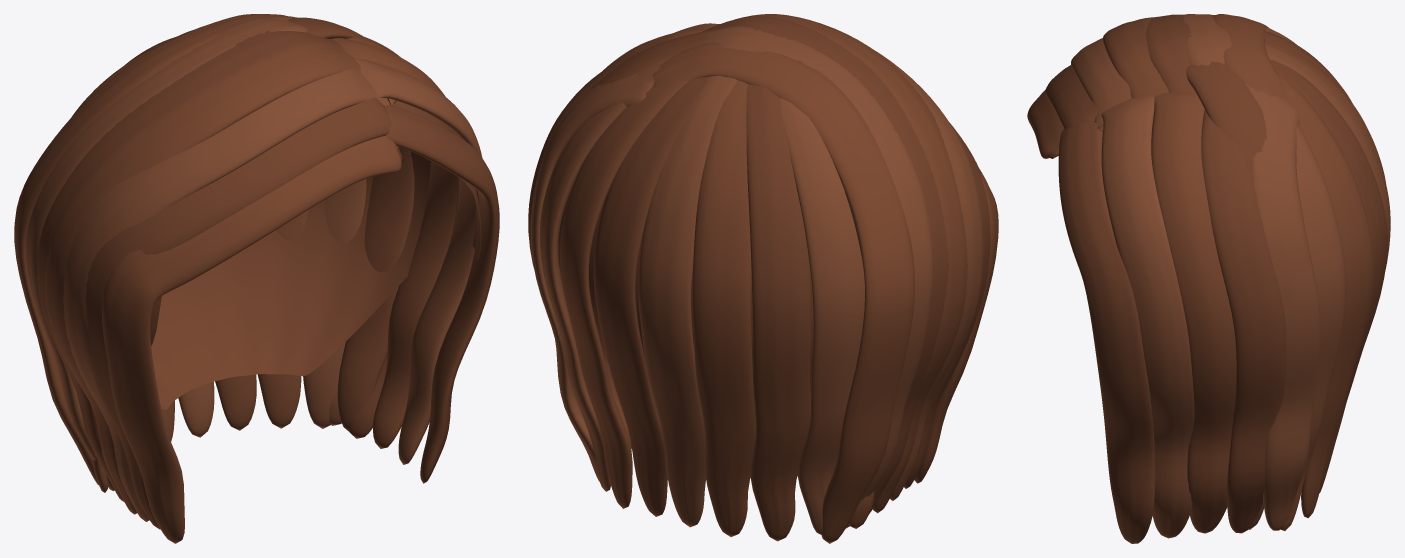
File: Feminine-side-sweep-pashmina261-hair.glb
3 views of the same model, side by side, from view 1: azimuth 30°, elevation 25°; view 2: azimuth 150°, elevation 25°; view 3: azimuth 270°, elevation 25° (orthographic). The views are drawn at different scales.
Parts seen in each view (by area): view 1: 226 hair / Hair / sculpted 0.002, 226 hair / Hair / sculpted 1.004, 226 hair / Hair / sculpted 2.002, 226 hair / Hair / sculpted 1.003; view 2: 226 hair / Hair / sculpted 0.002, 226 hair / Hair / sculpted 2.002, 226 hair / Hair / sculpted 1.004, 226 hair / Hair / sculpted 1.003; view 3: 226 hair / Hair / sculpted 1.004, 226 hair / Hair / sculpted 2.002, 226 hair / Hair / sculpted 0.002.
Boxes of the visible parts, x1,y1,x2,y2 form: 226 hair / Hair / sculpted 0.002: (14, 14, 457, 543); 226 hair / Hair / sculpted 1.004: (36, 17, 499, 529); 226 hair / Hair / sculpted 2.002: (26, 17, 482, 521); 226 hair / Hair / sculpted 1.003: (150, 101, 481, 409); 226 hair / Hair / sculpted 0.002: (560, 14, 998, 543); 226 hair / Hair / sculpted 2.002: (530, 23, 983, 534); 226 hair / Hair / sculpted 1.004: (528, 16, 990, 541); 226 hair / Hair / sculpted 1.003: (558, 185, 813, 389); 226 hair / Hair / sculpted 1.004: (1045, 14, 1387, 543); 226 hair / Hair / sculpted 2.002: (1071, 14, 1390, 538); 226 hair / Hair / sculpted 0.002: (1027, 14, 1386, 533).
Size of the model in its own units: 1.01 by 1.09 by 0.8006.
